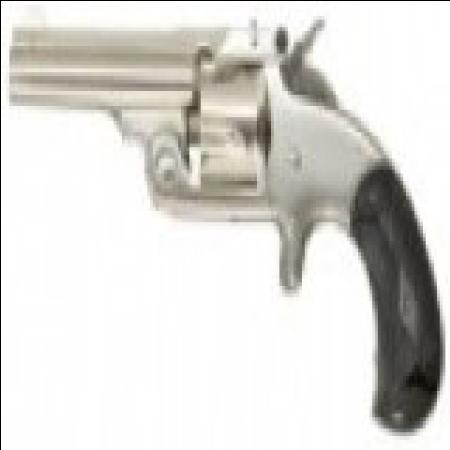Pistol: (17, 7, 439, 428)
